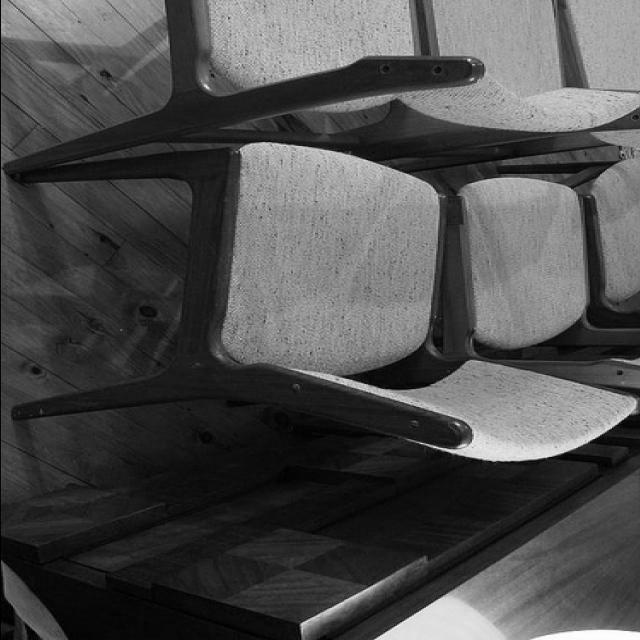chair: (11, 138, 625, 466), (2, 0, 637, 168), (394, 151, 639, 393)
